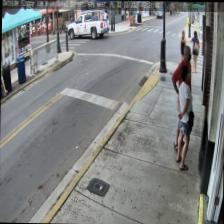person: (169, 44, 191, 153), (175, 65, 192, 170), (189, 29, 200, 74), (179, 28, 186, 64), (102, 9, 107, 28)
